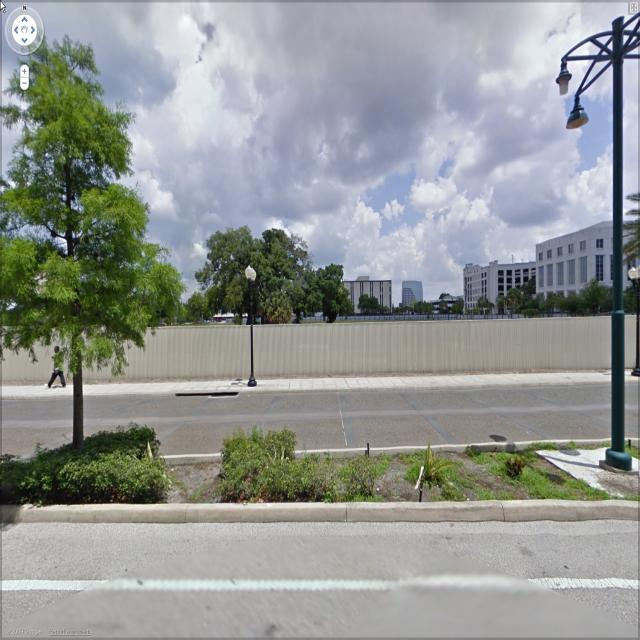b_1: (530, 204, 638, 310), (461, 252, 531, 314), (341, 274, 397, 316), (397, 277, 429, 312)
